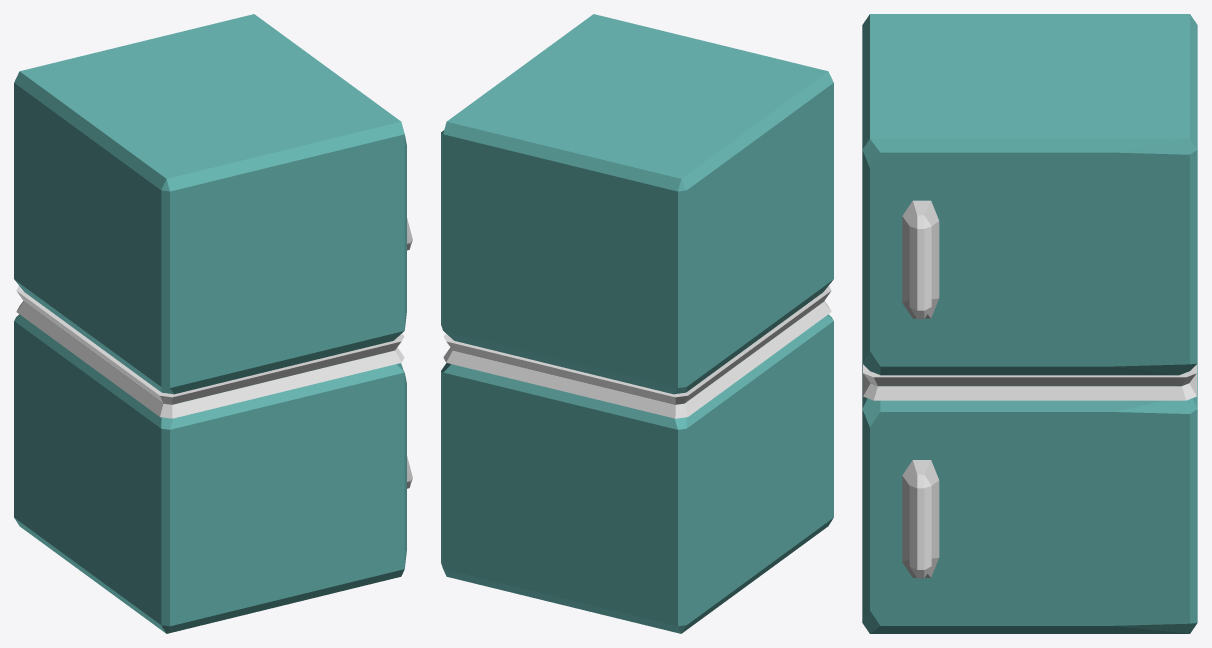
Rendered from fridge.glb.
3 renders of one model, left to right at view 1: azimuth 30°, elevation 25°; view 2: azimuth 150°, elevation 25°; view 3: azimuth 270°, elevation 25°, orthographic. The views are drawn at different scales.
Parts seen in each view (by area): view 1: Cube; view 2: Cube; view 3: Cube.
Part boxes in pixels (bbox=[...]): Cube: bbox=[14, 14, 412, 633]; Cube: bbox=[441, 14, 833, 633]; Cube: bbox=[862, 14, 1197, 633].
Size of the model in its own units: 1.1 by 1.75 by 1.07.
